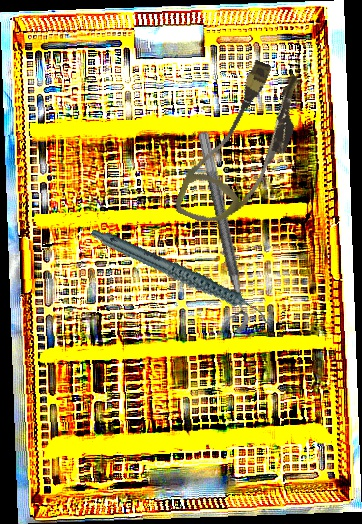Cannula: (171, 51, 314, 242)
Fixation Ring: (180, 130, 253, 338)
Handpiece: (89, 195, 272, 357)
